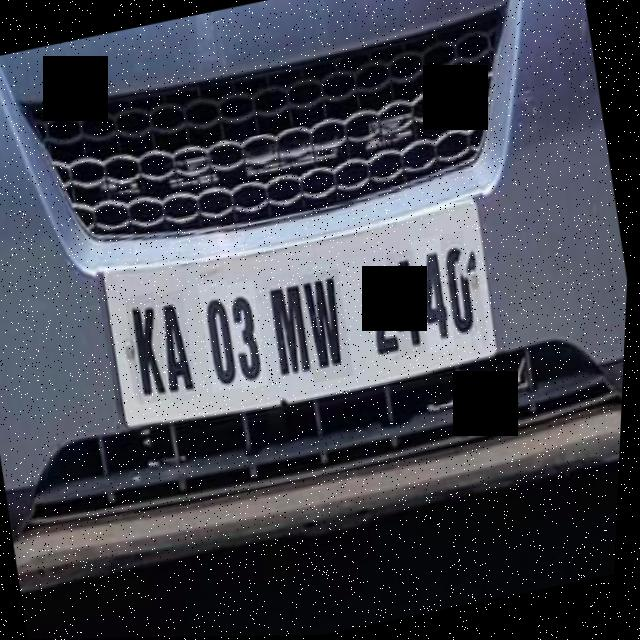0: (196, 279, 250, 394), (438, 231, 485, 341)
3: (226, 281, 276, 391)
4: (409, 237, 463, 355), (385, 251, 436, 357)
A: (155, 290, 205, 405)
K: (124, 292, 177, 406)
M: (262, 271, 321, 383)
W: (297, 269, 361, 384)
